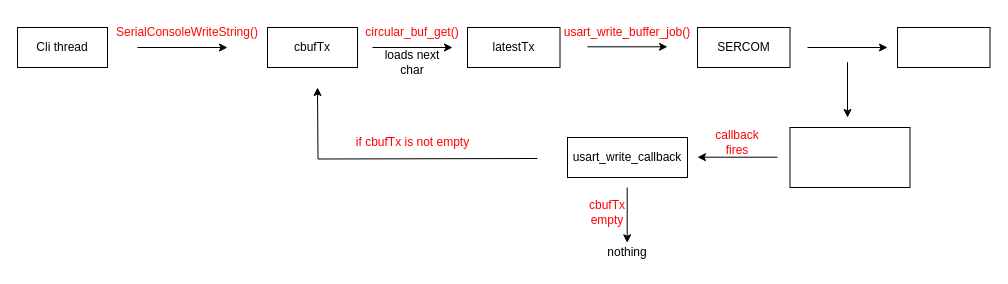
Image size: 1008x284. Some labels were removed from this diagram. The shapes that lost their labels are listed below. From the top down, each one's centre as x and y in pixels, then its label:
At (943,47): "terminal".
At (849,157): "USART_ CALLBACK_ BUFFER_ TRANSMITTED".
